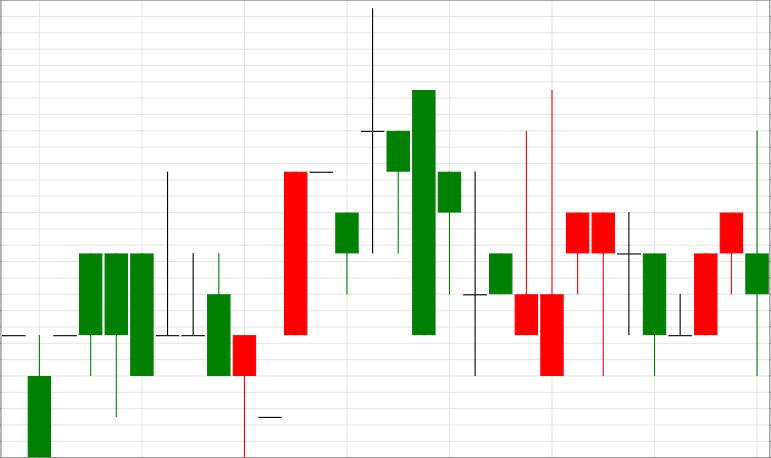hammer_rise: (78, 171, 256, 457)
inverse_hammer_rise: (361, 7, 538, 376)
morning_star_rise: (566, 212, 718, 376)
